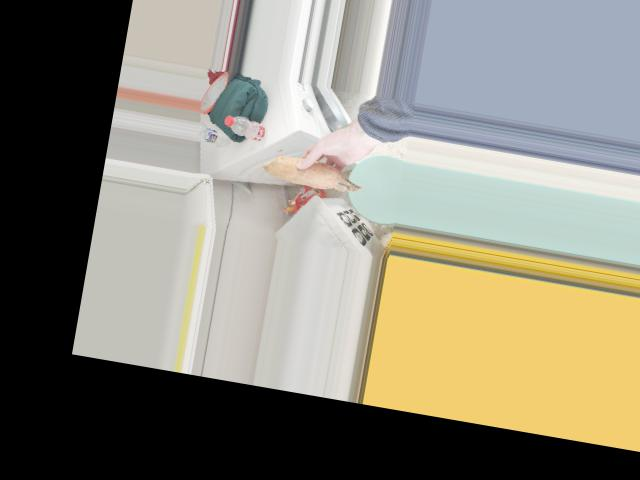sweet_potato: (273, 147, 363, 194)
